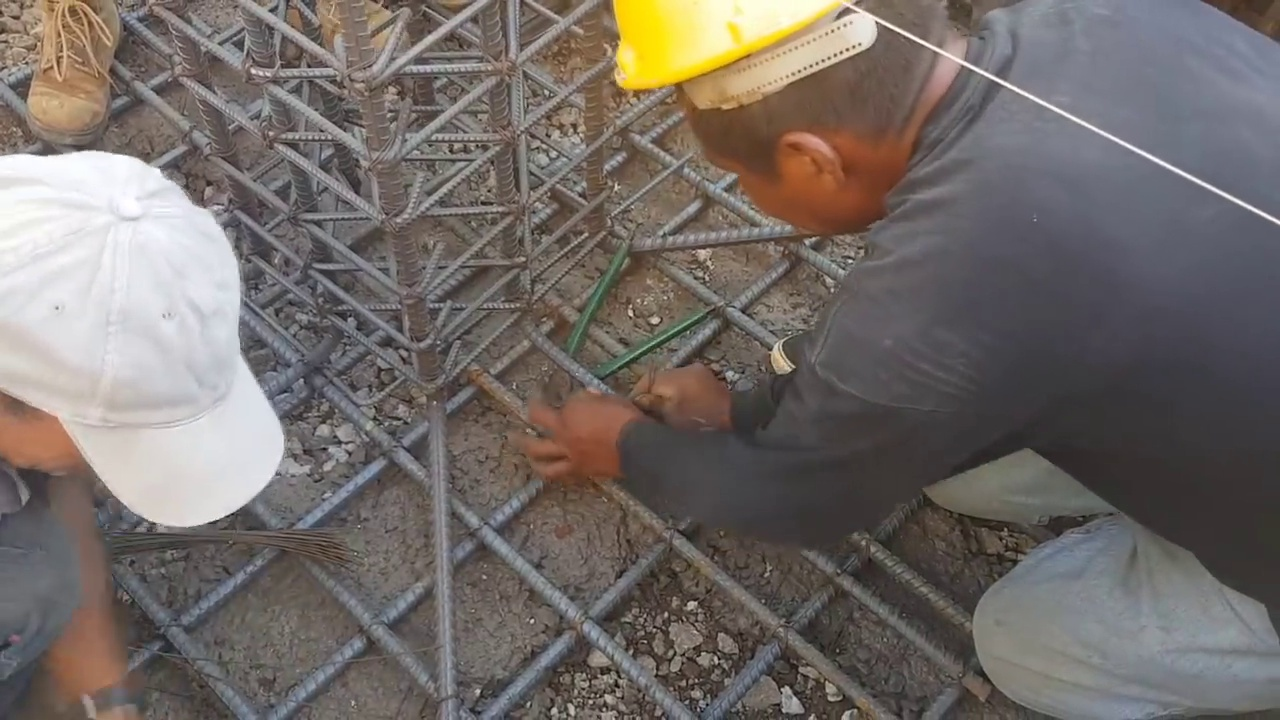helmet: (603, 0, 860, 117)
helmet-off: (0, 147, 284, 536)
helmet-on: (606, 0, 1003, 234)
person: (519, 0, 1280, 719), (0, 140, 280, 716)
